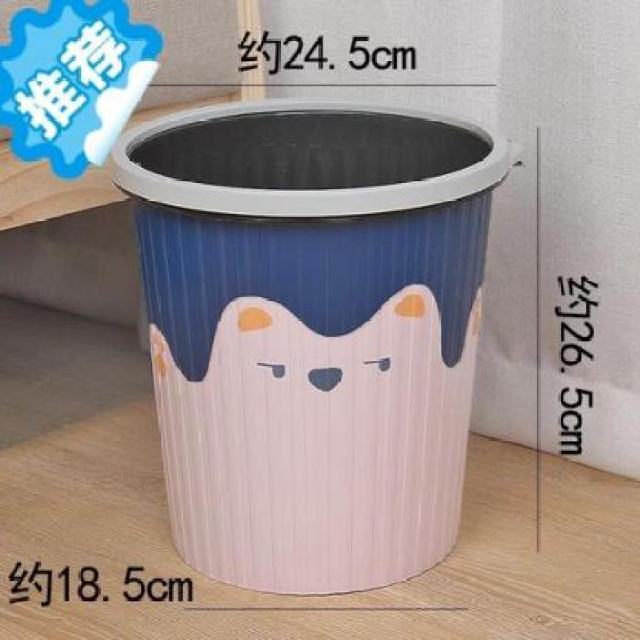dustbin: (103, 94, 529, 601)
